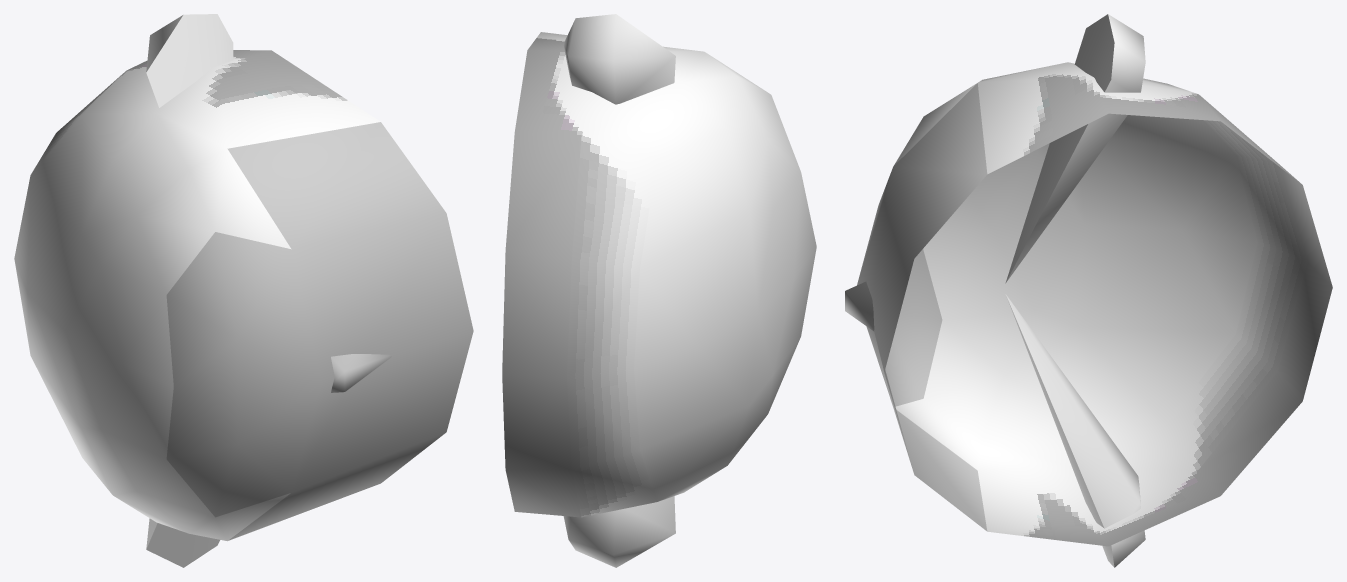
The model's file is boy01b.dae.
3 views of the same model, side by side, from view 1: azimuth 30°, elevation 25°; view 2: azimuth 150°, elevation 25°; view 3: azimuth 270°, elevation 25° (orthographic).
Visible parts, largest first — view 1: vsn_mesh_0_, vsn_mesh_1_, vsn_mesh_2_; view 2: vsn_mesh_0_; view 3: vsn_mesh_0_, vsn_mesh_1_, vsn_mesh_2_.
Boxes of the visible parts, x1,y1,x2,y2 form: vsn_mesh_0_: (14, 14, 380, 567); vsn_mesh_1_: (227, 122, 473, 540); vsn_mesh_2_: (166, 232, 321, 517); vsn_mesh_0_: (502, 14, 816, 567); vsn_mesh_0_: (894, 14, 1332, 567); vsn_mesh_1_: (845, 83, 987, 531); vsn_mesh_2_: (857, 169, 942, 406).
Bounding box in the file's own units: 15.5 × 26.71 × 21.59.
Materials: 3 (1 with a texture image).
